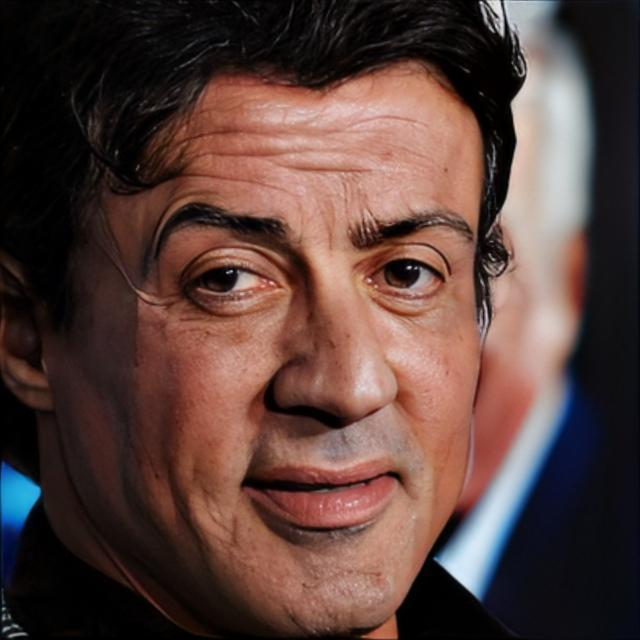content: (53, 48, 484, 640)
